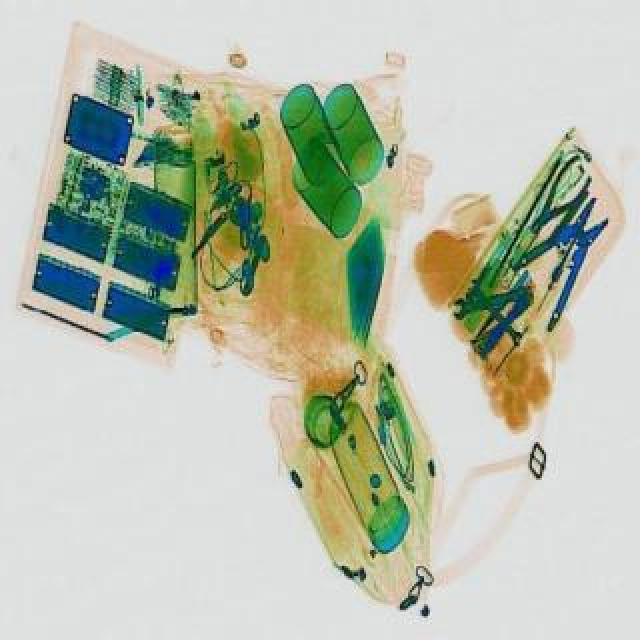scissors: (466, 280, 530, 350), (452, 286, 540, 328)
wrench: (492, 188, 640, 336), (520, 158, 604, 246)
